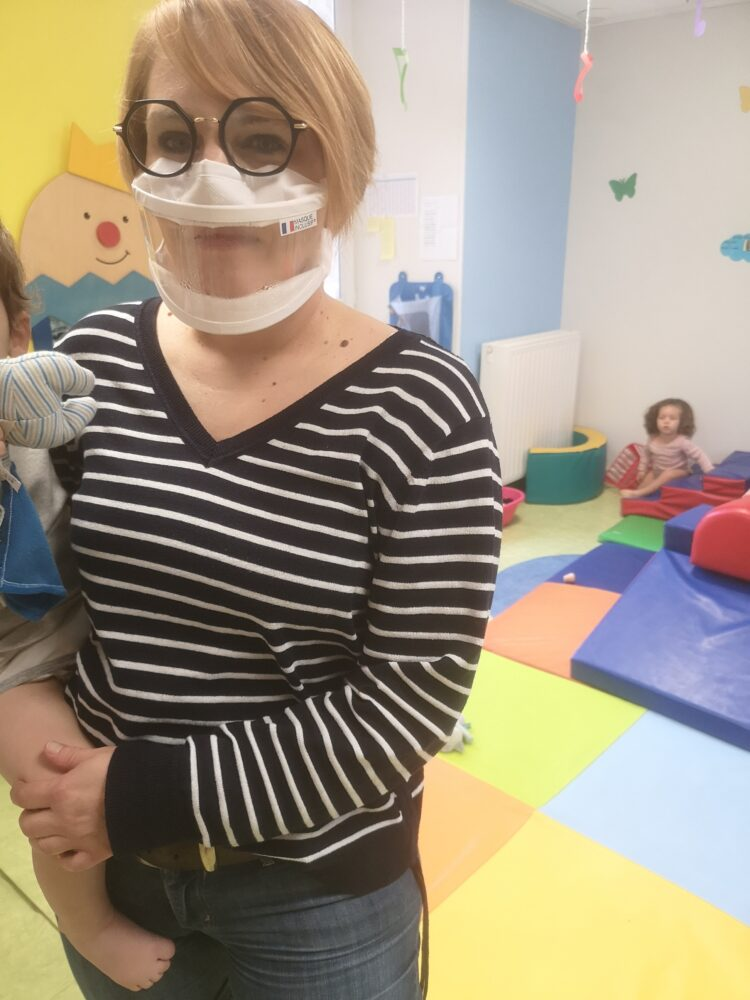with_mask: (128, 28, 323, 332)
without_mask: (650, 397, 686, 439)
